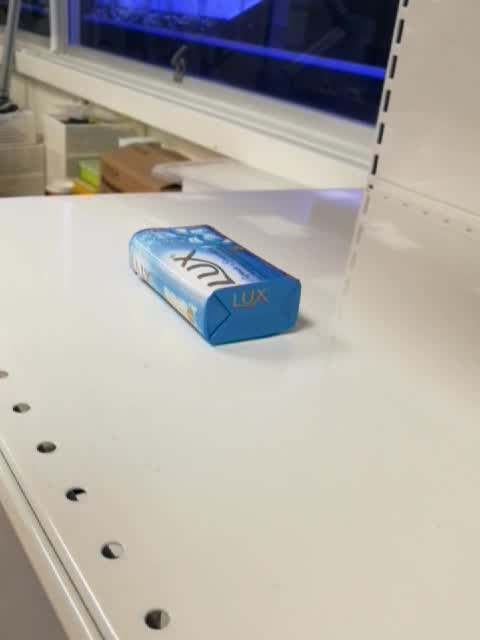soap: (126, 223, 304, 349)
